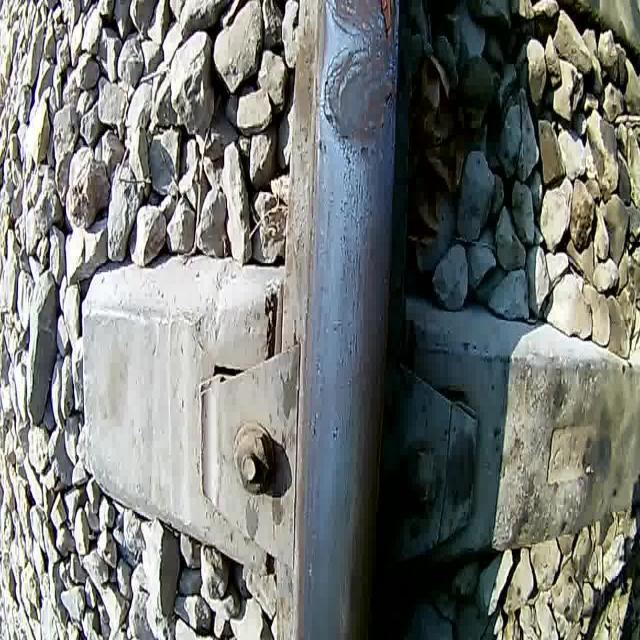Cracks: (321, 43, 374, 131), (324, 0, 382, 45)
Spallings: (378, 0, 396, 45)
Squats: (314, 0, 402, 169)
